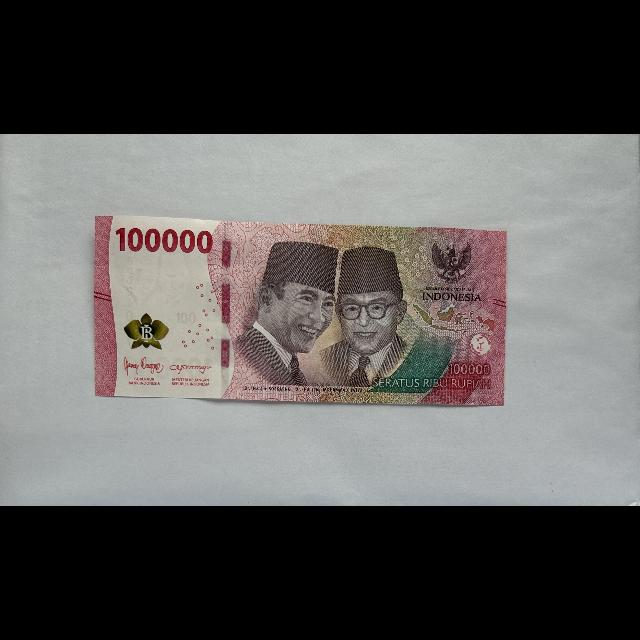Asli-100k: (94, 214, 508, 409)
Tinta-Asli-100k: (123, 311, 170, 351)
